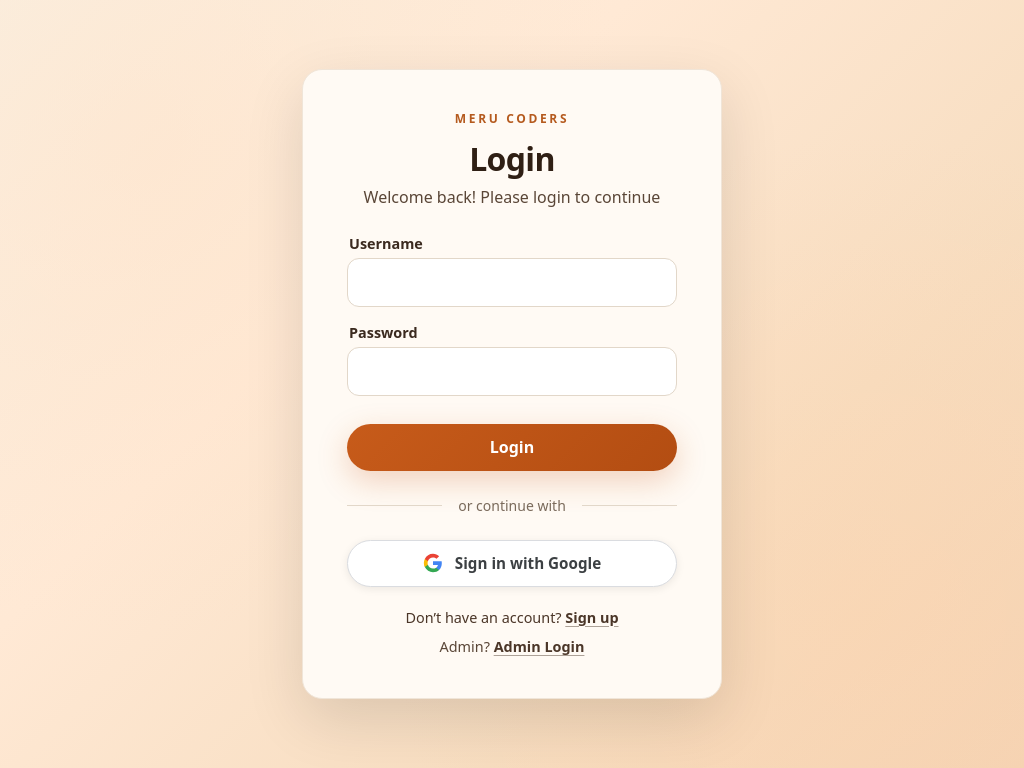
LoginPage › says why Google sign-in could not start
What coordinates should you click on to do the following:
click the button "Sign in with Google"
I would click on:
 (512, 563)
Its box is [347,540,677,587].
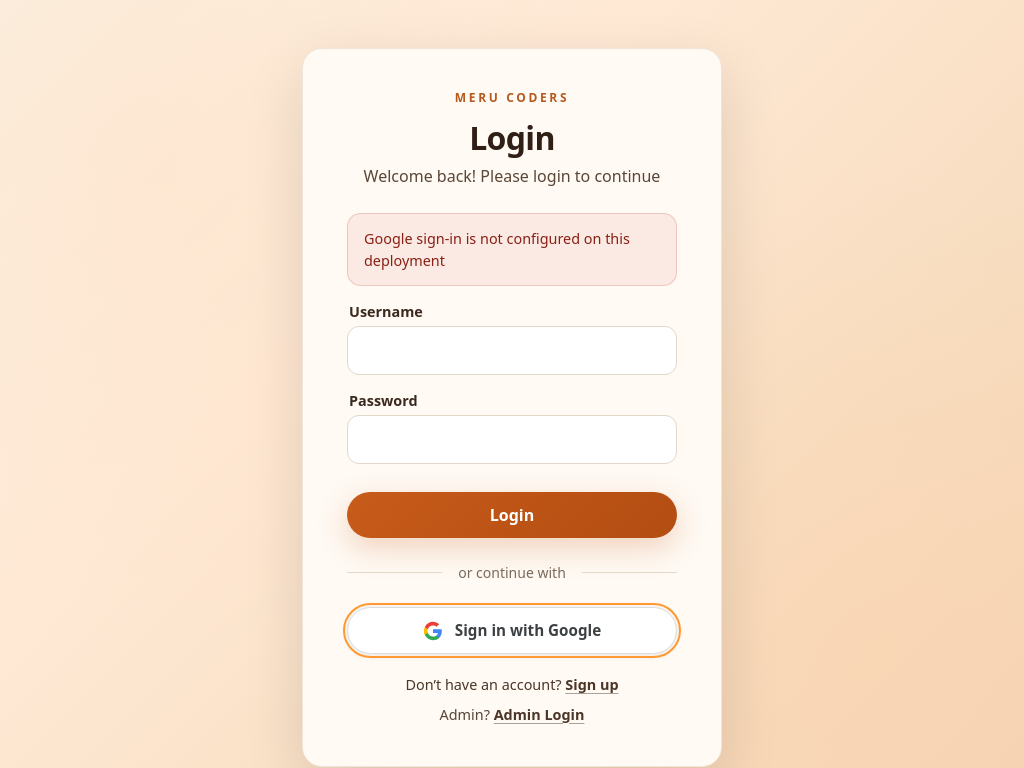
Result: the message reads "Google sign-in is not configured on this deployment" at [364,229,630,270]
